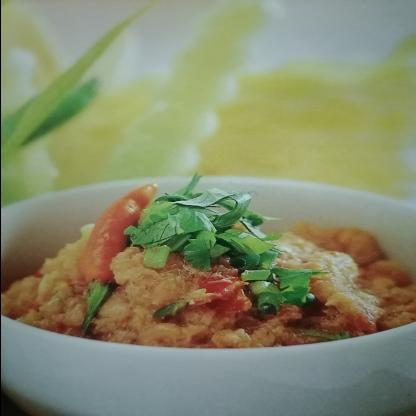Namprig: (1, 174, 410, 359)
